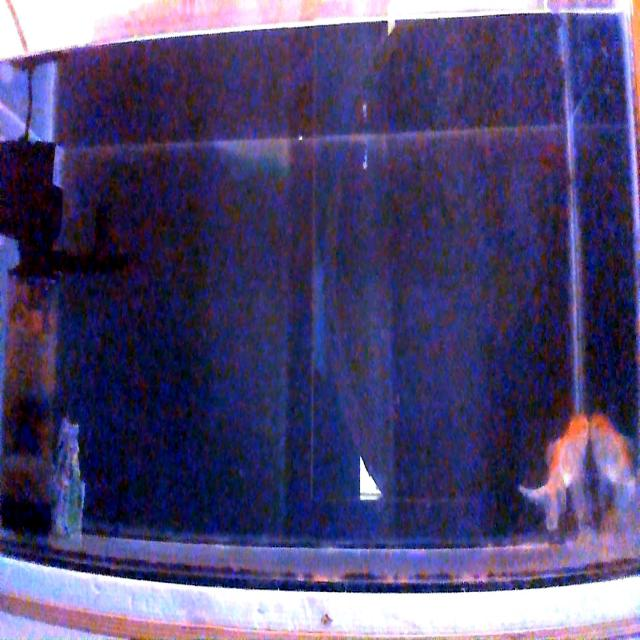fish: (518, 413, 590, 532), (586, 408, 640, 530)
